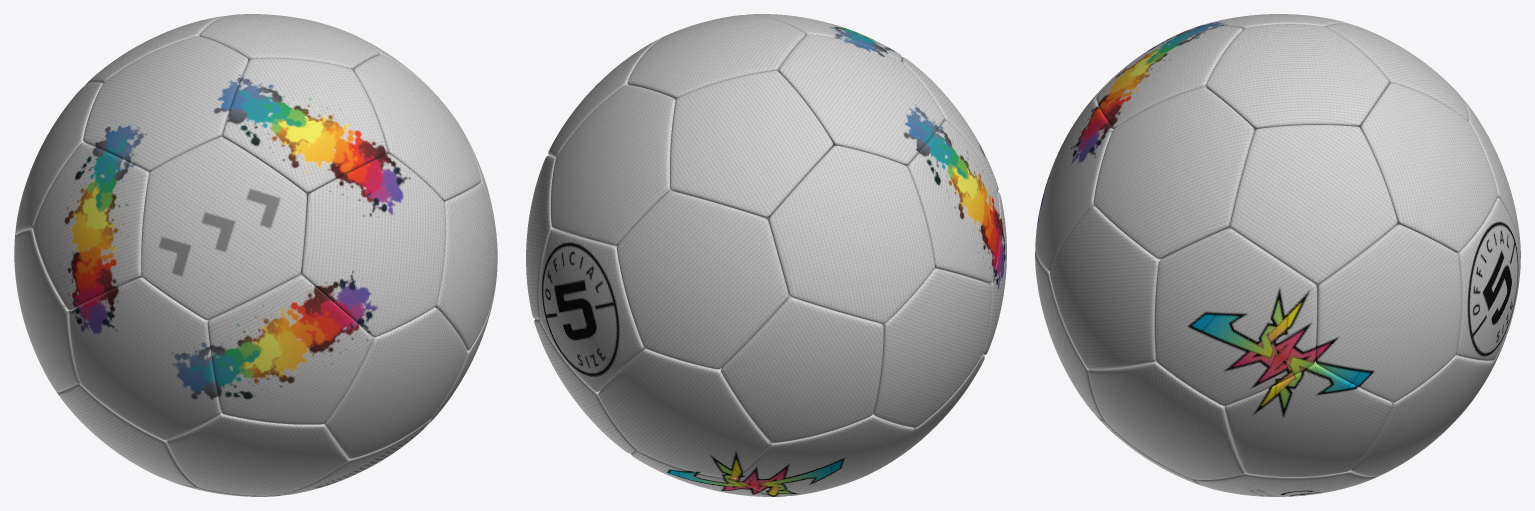
The model's file is soccer-ball.glb.
3 renders of one model, left to right at view 1: azimuth 30°, elevation 25°; view 2: azimuth 150°, elevation 25°; view 3: azimuth 270°, elevation 25°, orthographic.
Parts seen in each view (by area): view 1: Icosphere_0; view 2: Icosphere_0; view 3: Icosphere_0.
Part boxes in pixels (x1=…): Icosphere_0: x1=14, y1=14, x2=497, y2=496; Icosphere_0: x1=526, y1=14, x2=1006, y2=496; Icosphere_0: x1=1035, y1=14, x2=1520, y2=496.
Bounding box in the file's own units: 1.67 × 1.67 × 1.67.
1 material, 1 textured.
